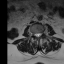CCS_normal: (37, 31, 39, 39)
LFS_normal: (41, 29, 43, 36)
LLS_normal: (39, 31, 41, 37)
RFS_normal: (33, 30, 35, 37)
RLS_normal: (35, 30, 37, 38)
